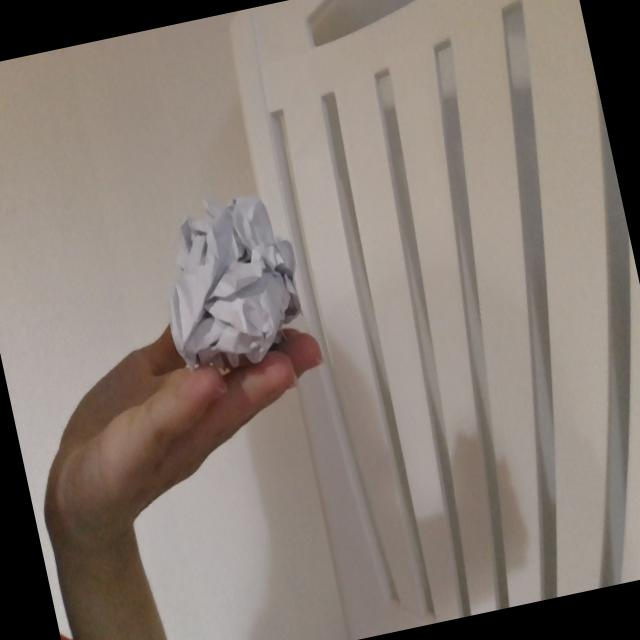crumpled_paper: (142, 173, 320, 383)
